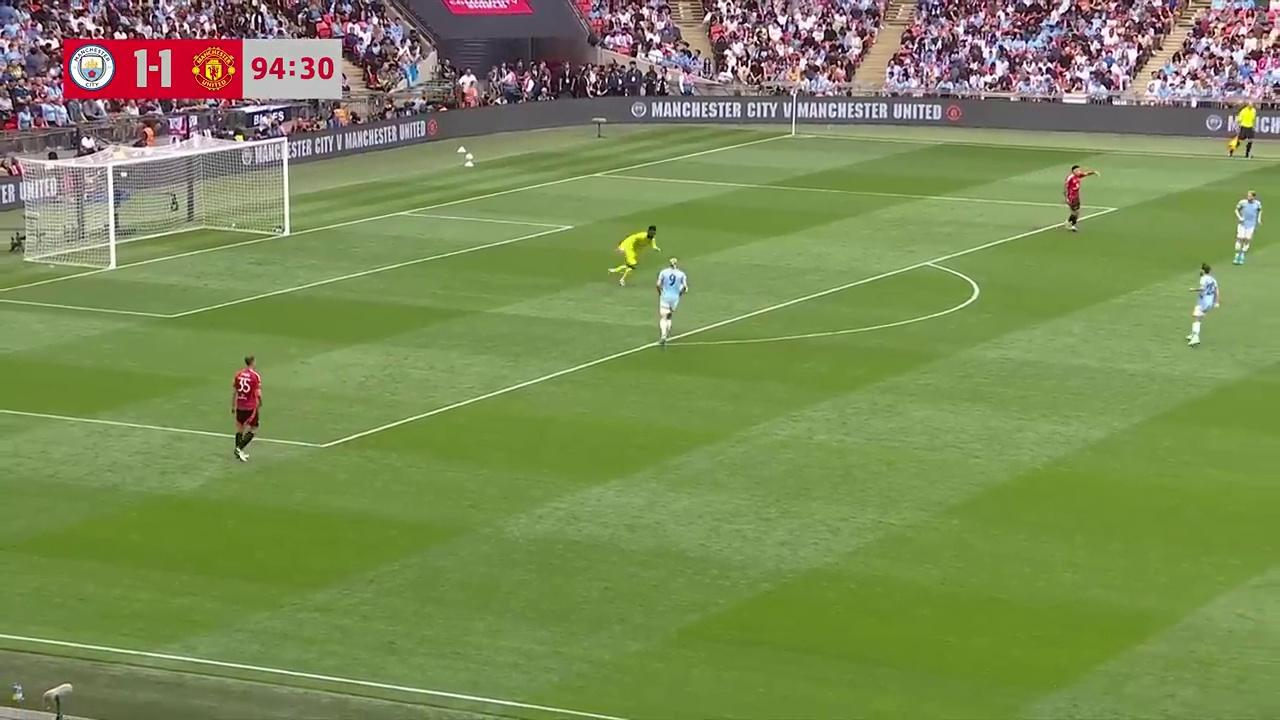player: (651, 258, 688, 349), (231, 355, 262, 461), (609, 226, 659, 286), (1187, 263, 1220, 346), (1064, 160, 1097, 232), (1232, 191, 1262, 265)
referee: (1226, 98, 1265, 158)
